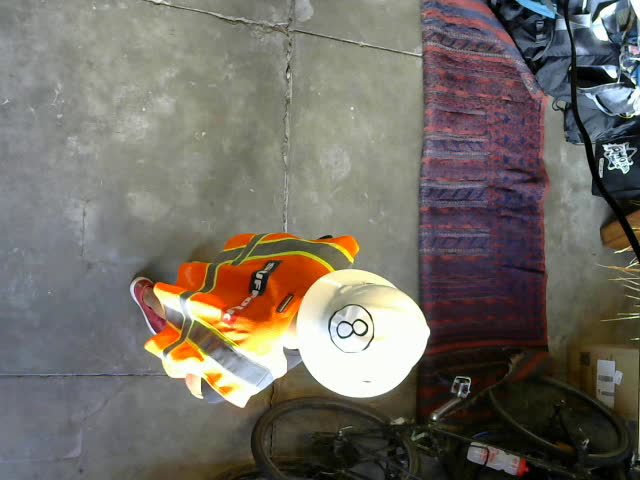eight: (328, 302, 372, 350)
